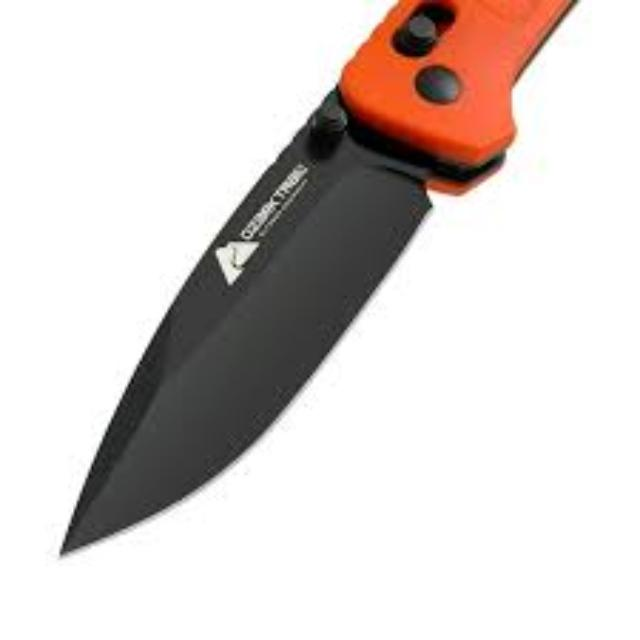Knife: (58, 0, 594, 558)
